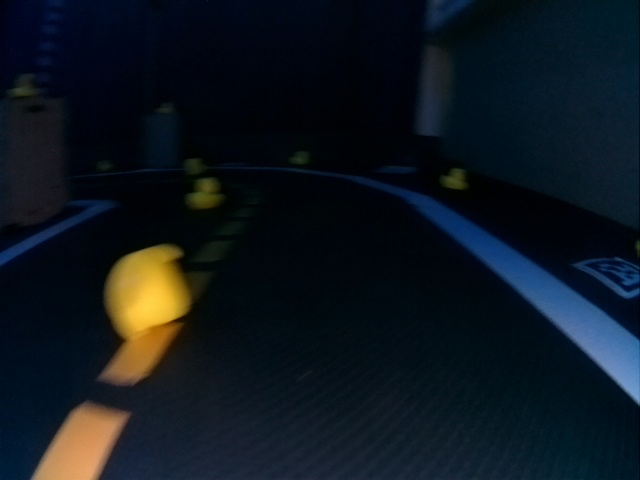Duckie: (109, 245, 188, 329), (185, 177, 223, 208), (440, 167, 468, 190), (9, 74, 37, 95), (184, 158, 206, 172), (290, 151, 310, 165), (97, 158, 114, 170)
QR code: (573, 256, 637, 298)
